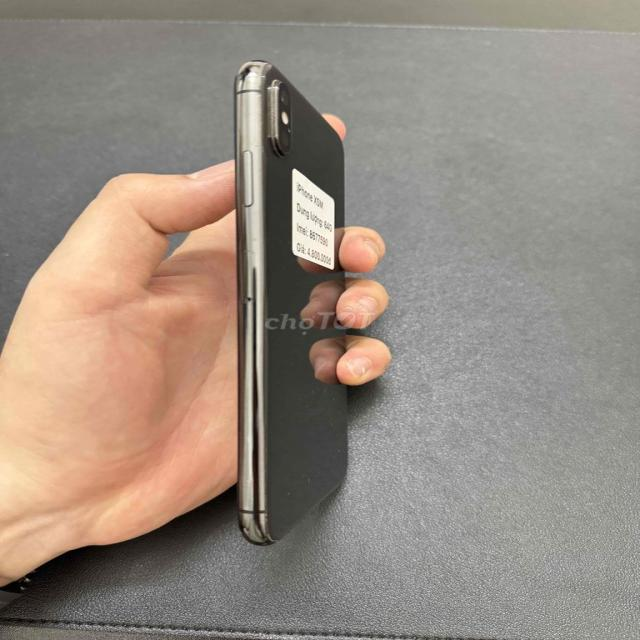gen_x_xs: (235, 61, 346, 545)
scratch: (280, 378, 343, 474), (267, 472, 325, 508), (256, 512, 282, 530), (255, 69, 275, 82)
